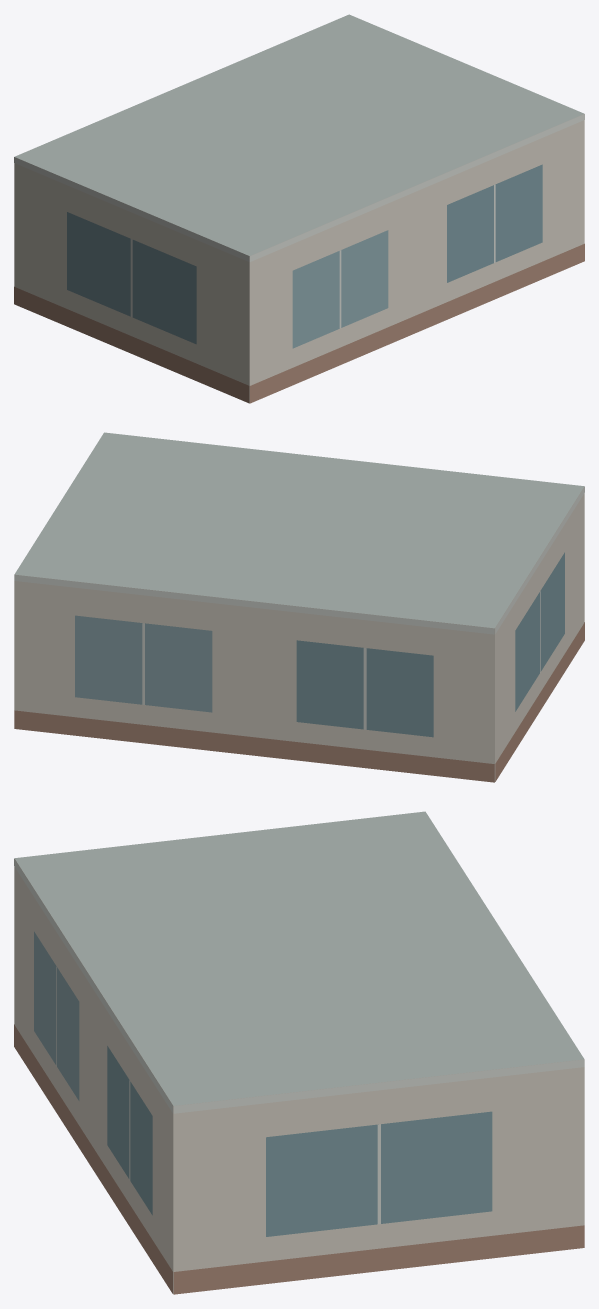
The model's file is survey-upis-32694397.glb.
3 views of the same model, one above another, from view 1: azimuth 30°, elevation 25°; view 2: azimuth 150°, elevation 25°; view 3: azimuth 270°, elevation 25° (orthographic). The views are drawn at different scales.
Visible parts, largest first — view 1: survey-upis-32694397.tmp; view 2: survey-upis-32694397.tmp; view 3: survey-upis-32694397.tmp.
Part boxes in pixels (x1,y1,x2,y2): survey-upis-32694397.tmp: (14, 14, 584, 403); survey-upis-32694397.tmp: (14, 432, 584, 782); survey-upis-32694397.tmp: (14, 811, 584, 1294).
Bounding box in the file's own units: 10.24 × 3.05 × 8.38.
